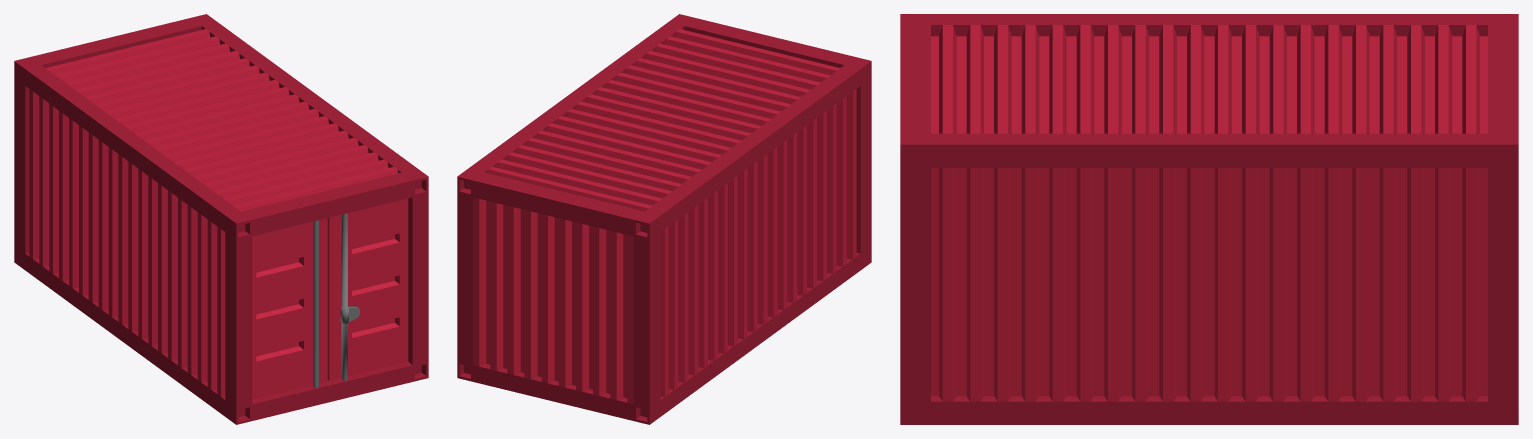
Rendered from Container.fbx.
3 views of the same model, side by side, from view 1: azimuth 30°, elevation 25°; view 2: azimuth 150°, elevation 25°; view 3: azimuth 270°, elevation 25° (orthographic). The views are drawn at different scales.
Visible parts, largest first — view 1: Sides, Face Left, Face Top, Face Front, Bar with Handle, Bar; view 2: Sides, Face Left, Face Top, Face Back; view 3: Face Right, Sides, Face Top.
Part boxes in pixels (bbox=[...]): Sides: bbox=[14, 14, 428, 424]; Face Left: bbox=[29, 89, 225, 396]; Face Top: bbox=[46, 29, 397, 211]; Face Front: bbox=[252, 198, 408, 399]; Bar with Handle: bbox=[340, 213, 359, 380]; Bar: bbox=[313, 220, 318, 387]; Sides: bbox=[457, 14, 871, 424]; Face Left: bbox=[660, 89, 856, 396]; Face Top: bbox=[488, 29, 839, 211]; Face Back: bbox=[473, 197, 633, 404]; Face Right: bbox=[931, 168, 1487, 401]; Sides: bbox=[900, 14, 1518, 424]; Face Top: bbox=[931, 25, 1487, 133].
Size of the model in its own units: 400 by 400 by 800.
